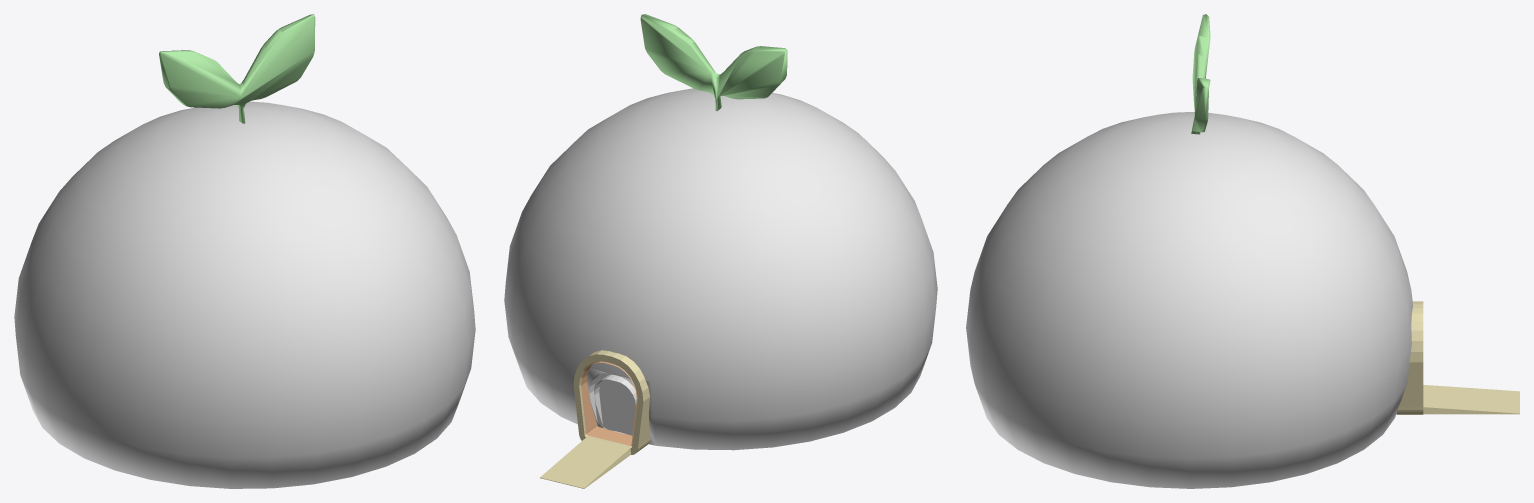
File: shopUncut.fbx
The picture shows the model from 3 angles, left to right: view 1: azimuth 30°, elevation 25°; view 2: azimuth 150°, elevation 25°; view 3: azimuth 270°, elevation 25°; orthographic projection. The views are drawn at different scales.
Parts seen in each view (by area): view 1: Sphere, Cube.001; view 2: Sphere, Cube.001, Cube; view 3: Sphere, Cube, Cube.001.
Boxes of the visible parts, <box> form: Sphere: <box>14,101,475,488</box>; Cube.001: <box>159,14,315,123</box>; Sphere: <box>504,88,937,450</box>; Cube.001: <box>640,14,787,111</box>; Cube: <box>540,350,650,488</box>; Sphere: <box>966,112,1412,488</box>; Cube: <box>1396,301,1519,414</box>; Cube.001: <box>1191,14,1210,134</box>.
Size of the model in its own units: 654 by 459 by 531.
